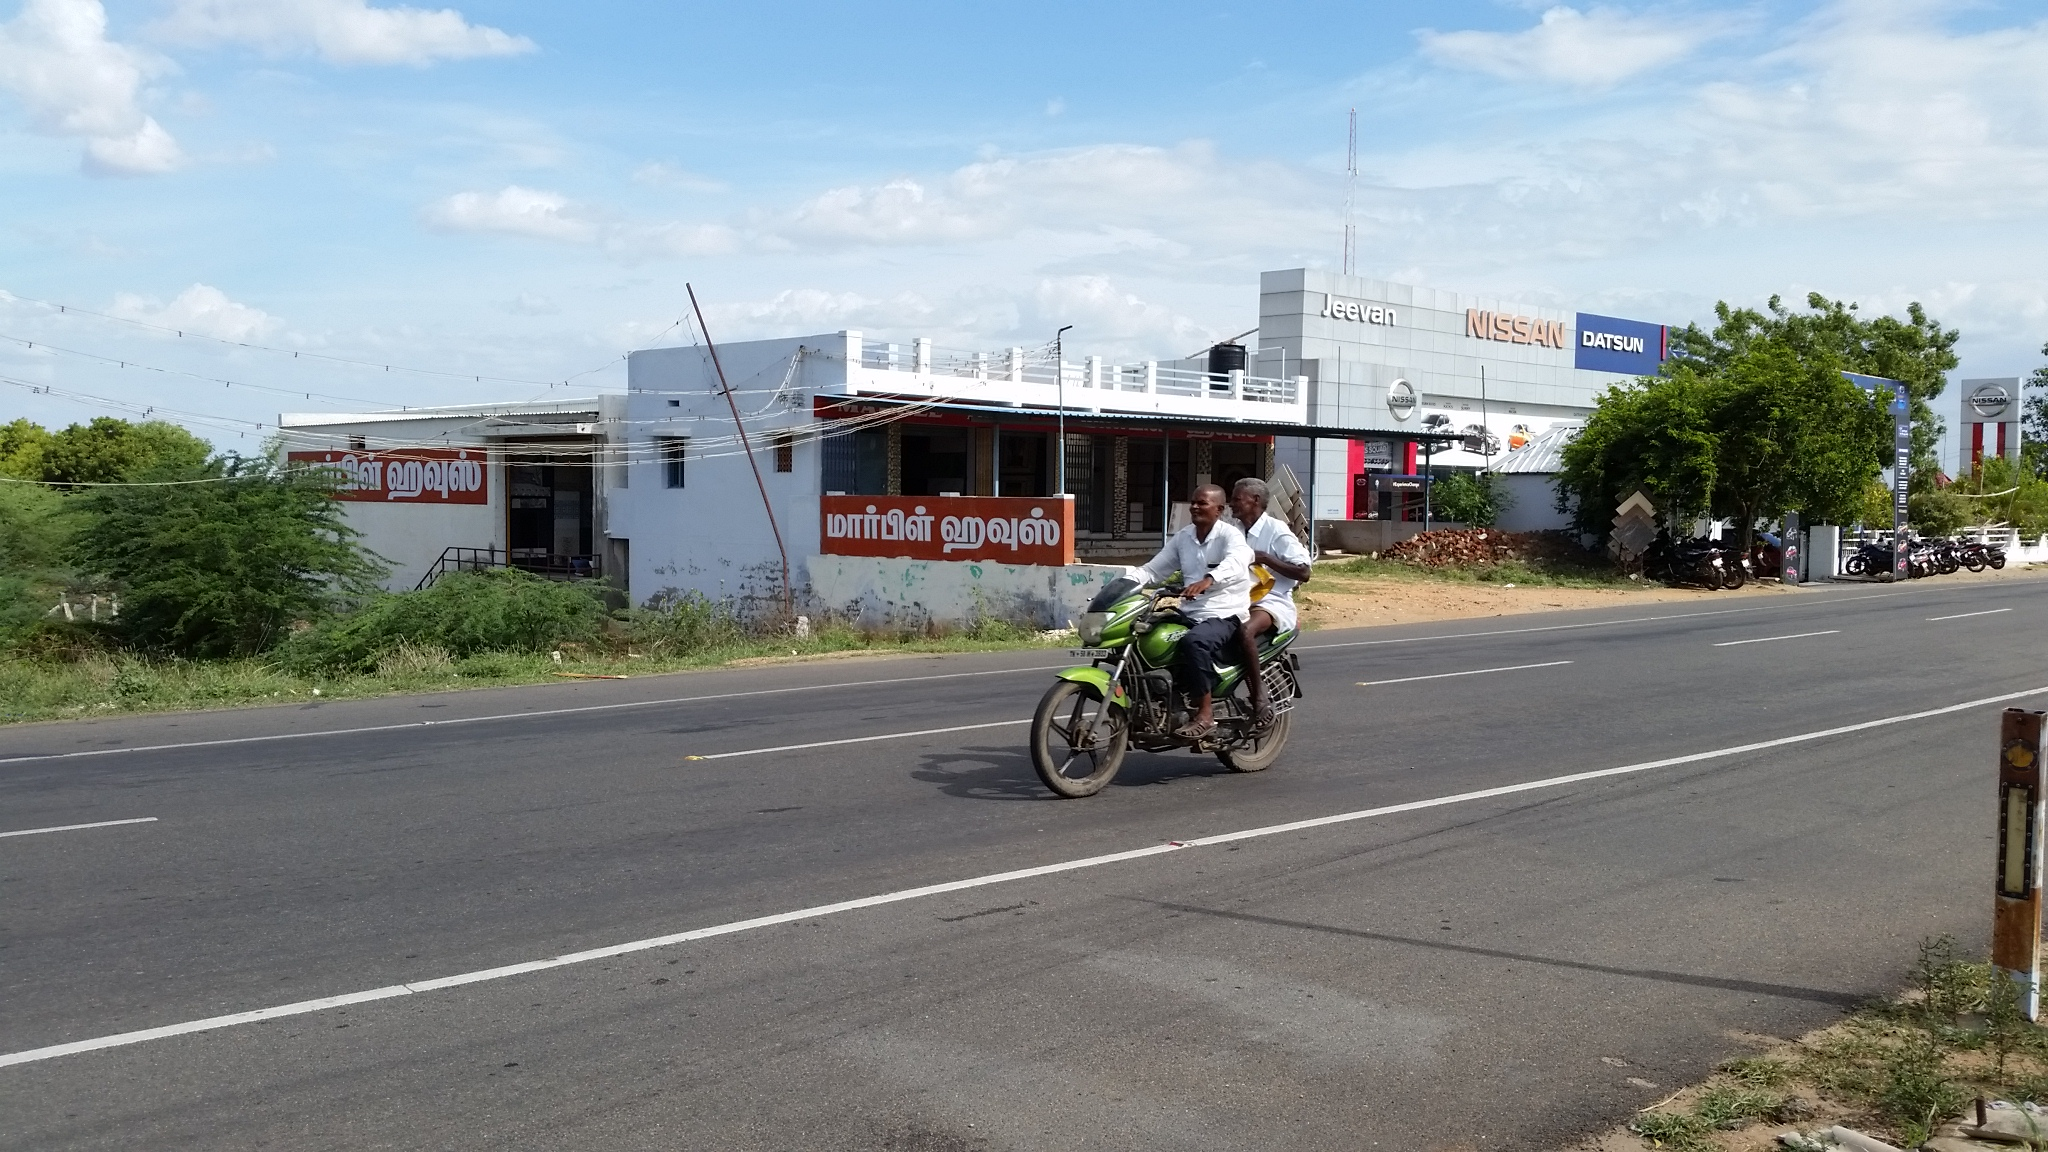biker: (1010, 402, 1344, 830)
nohelmet: (1174, 470, 1232, 542), (1225, 468, 1283, 540)
